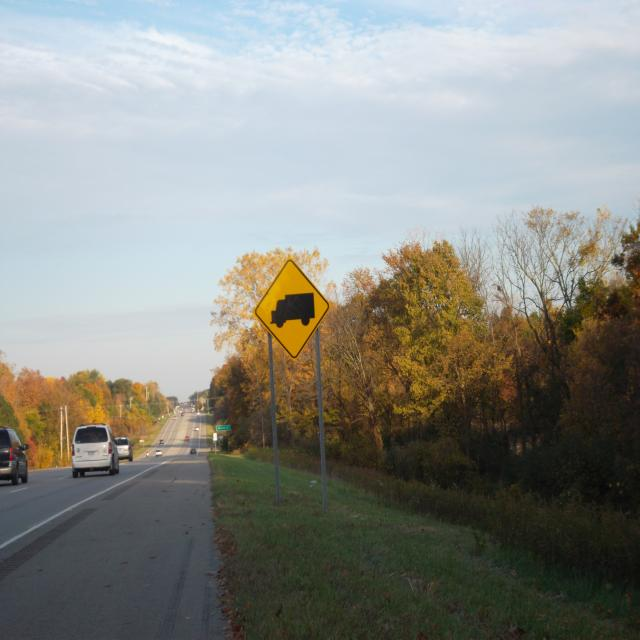warning: (250, 259, 330, 358)
